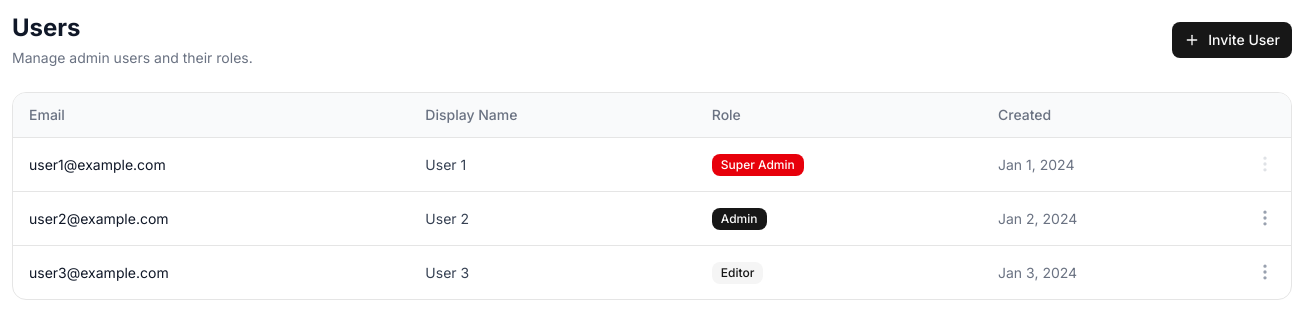
Test: UsersManager › opens action menu for other users and shows Edit Role and Delete
Click the button without text in the row of "user2@example.com": (1265, 218) [1251, 204, 1279, 232]
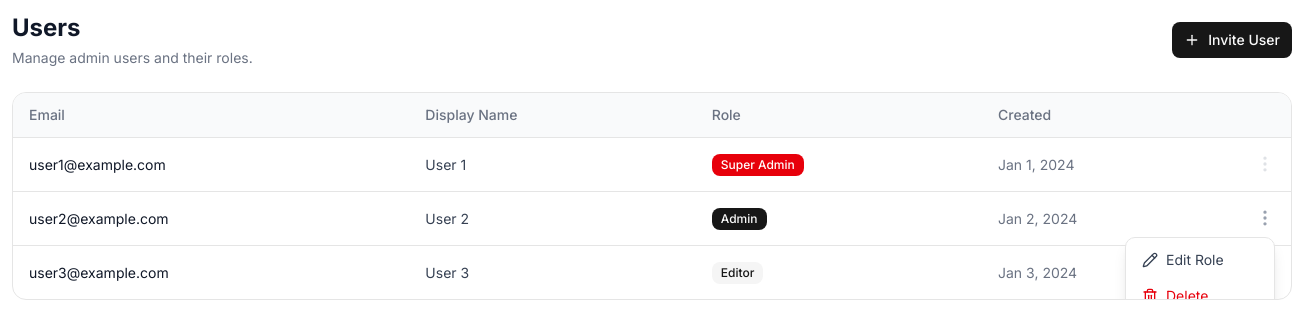
Check: the button "Edit Role" is shown, box [1126, 242, 1274, 278]
Check: the button "Delete" is shown, box [1126, 278, 1274, 300]
